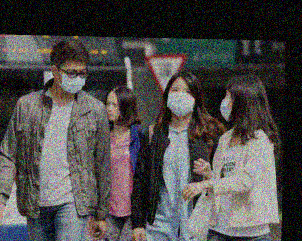with_mask: (166, 84, 197, 117), (55, 64, 87, 94), (218, 88, 234, 121)
without_mask: (103, 97, 121, 121)
